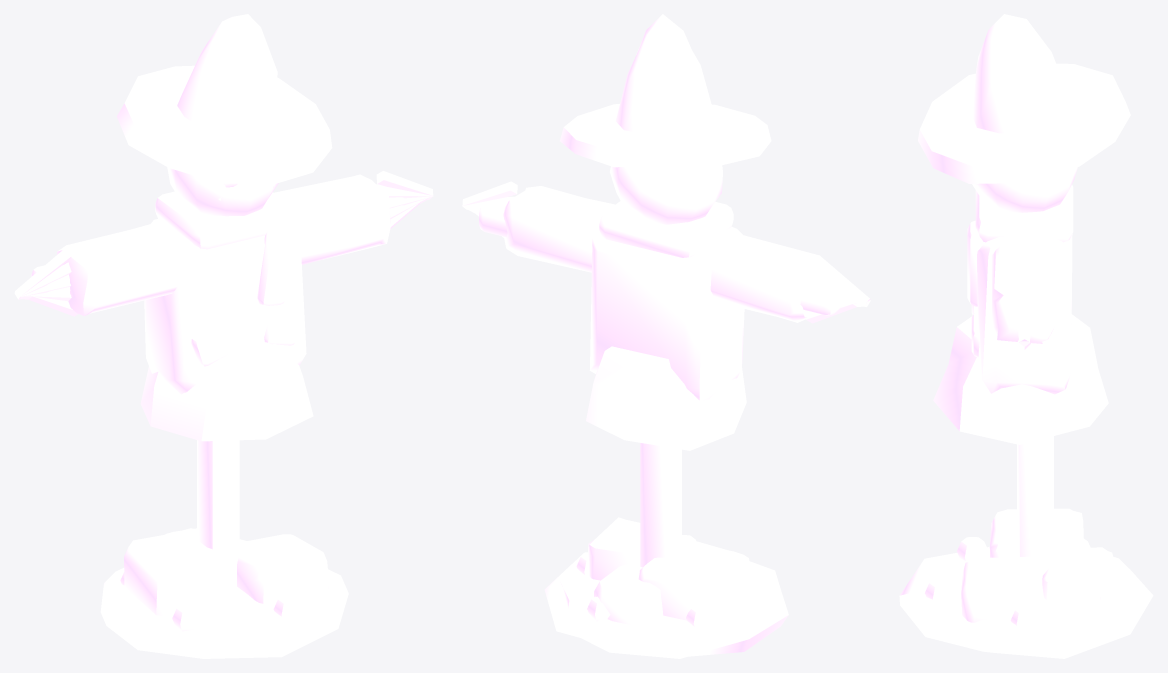
The model's file is scarecrow.gltf.
3 renders of one model, left to right at view 1: azimuth 30°, elevation 25°; view 2: azimuth 150°, elevation 25°; view 3: azimuth 270°, elevation 25°, orthographic. The views are drawn at different scales.
Visible parts, largest first — view 1: HAUNT_scarecrow, HAUNT_static; view 2: HAUNT_scarecrow, HAUNT_static; view 3: HAUNT_scarecrow, HAUNT_static.
Boxes of the visible parts, left/top/right/bottom form: HAUNT_scarecrow: left=14, top=14, right=433, bottom=560; HAUNT_static: left=100, top=528, right=348, bottom=658; HAUNT_scarecrow: left=462, top=14, right=870, bottom=567; HAUNT_static: left=544, top=517, right=788, bottom=658; HAUNT_scarecrow: left=918, top=14, right=1130, bottom=591; HAUNT_static: left=899, top=508, right=1153, bottom=658.
Size of what is drawn, in the model's own units: 1.75 by 2.43 by 0.9226.
